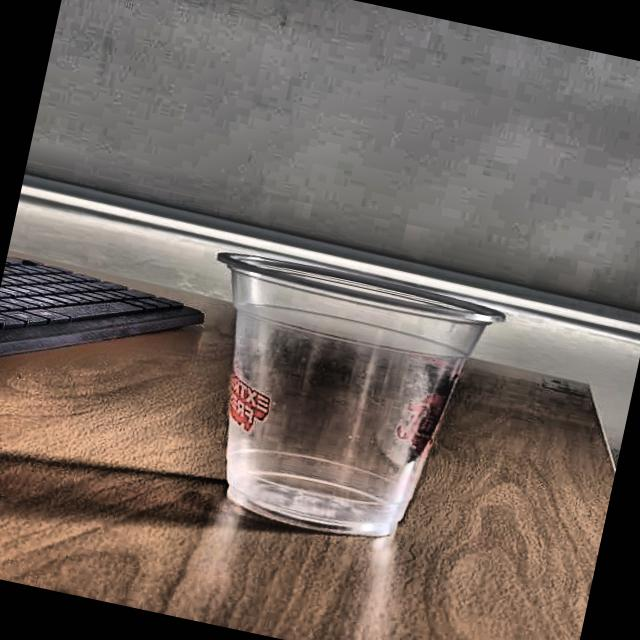plastic cup: (162, 244, 509, 560)
